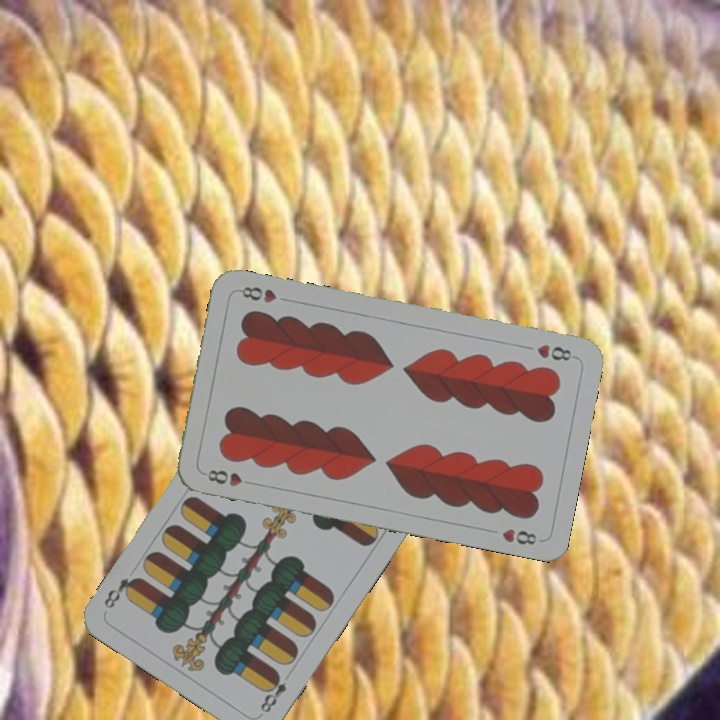E8: (256, 668, 290, 716)
H8: (199, 465, 258, 489), (532, 340, 578, 364)
